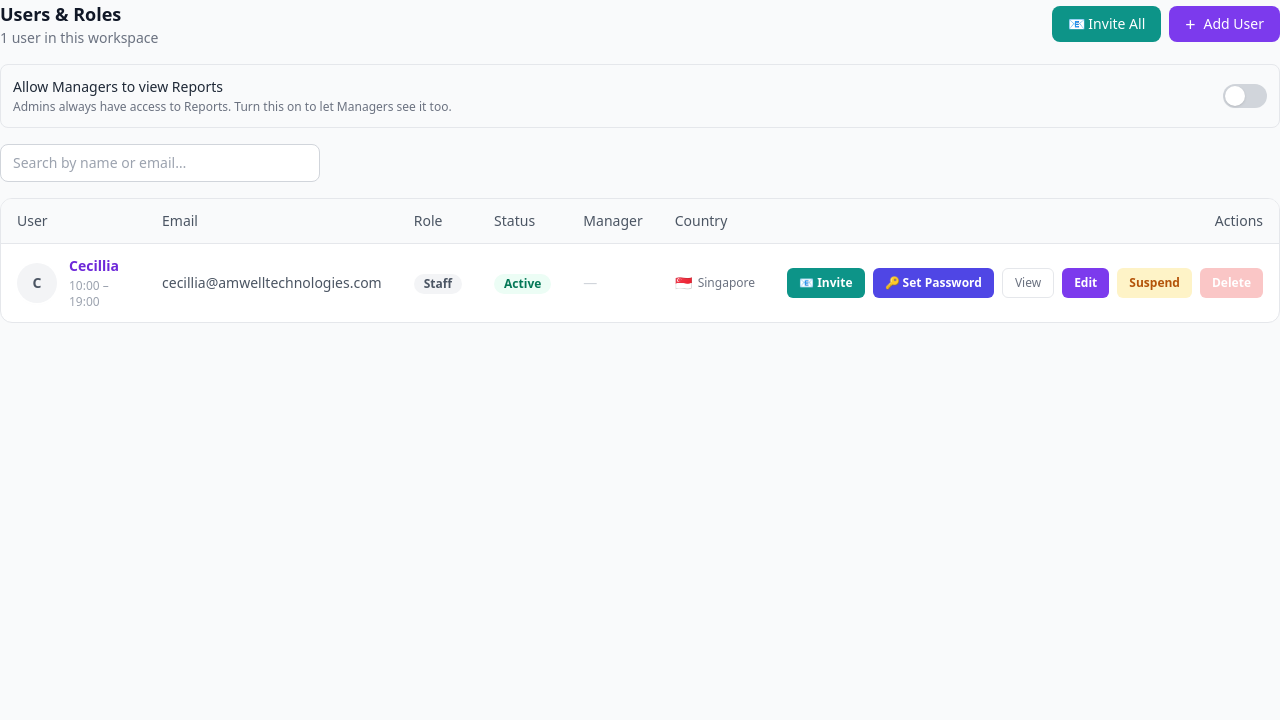
Scenario: UsersTab — Edit User location and emergency contact › pre-fills the edit form with existing address and emergency contact data
Expected: the text "cecillia@amwelltechnologies.com" is shown, [146,244,398,322]
What coordinates should you click on to do the following:
click the button "Edit"
I would click on:
 (1086, 283)
Its box is [1062,268,1109,298].
(page scrolled)
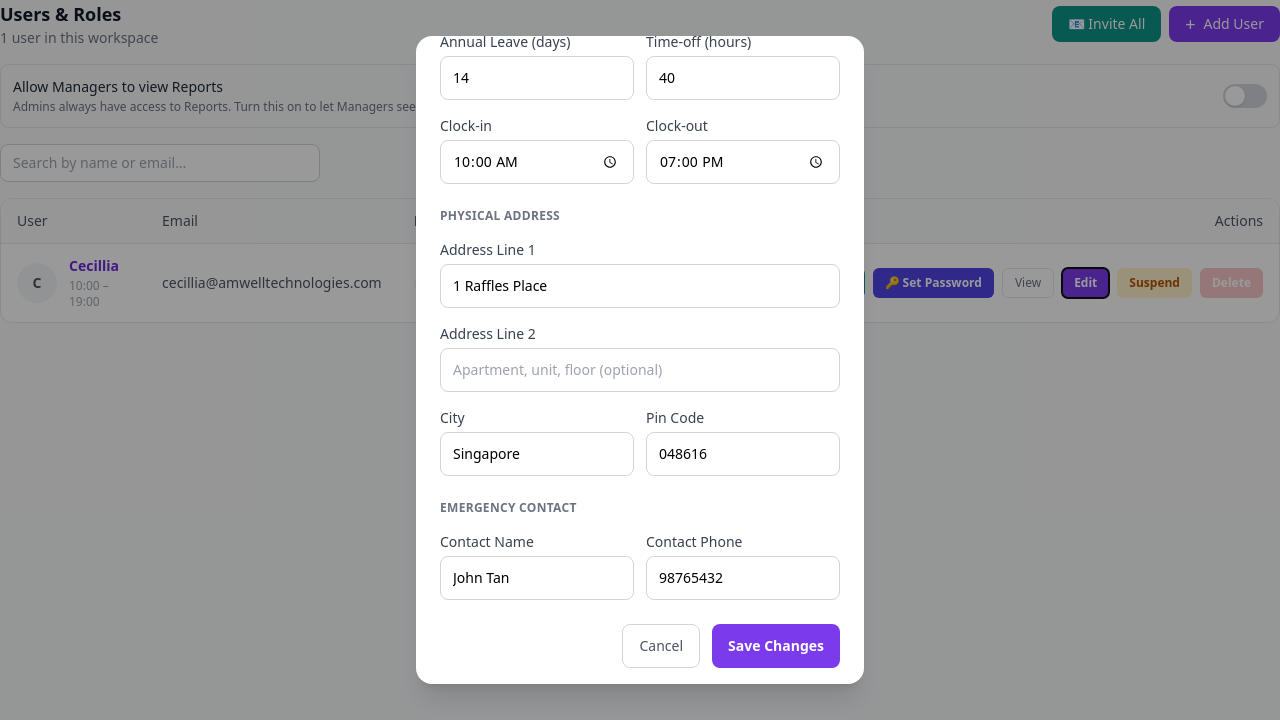
Expected: the field showing "1 Raffles Place" below "Address Line 1" is shown, [440,264,840,308]
Expected: the field showing "048616" below "Pin Code" is shown, [646,432,840,476]
Expected: the field showing "John Tan" below "Contact Name" is shown, [440,556,634,600]
